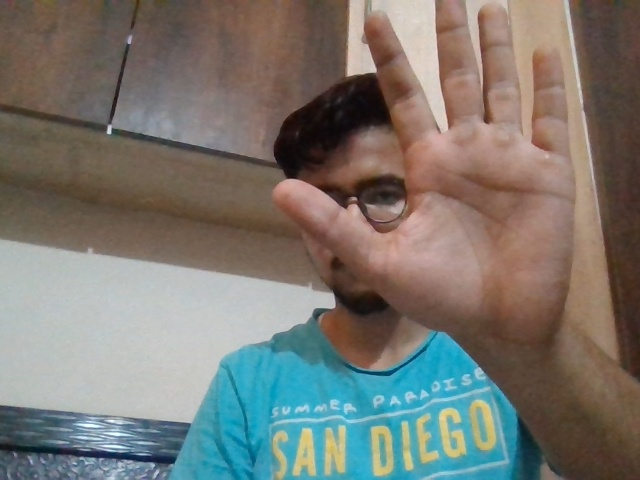hello: (283, 0, 600, 339)
